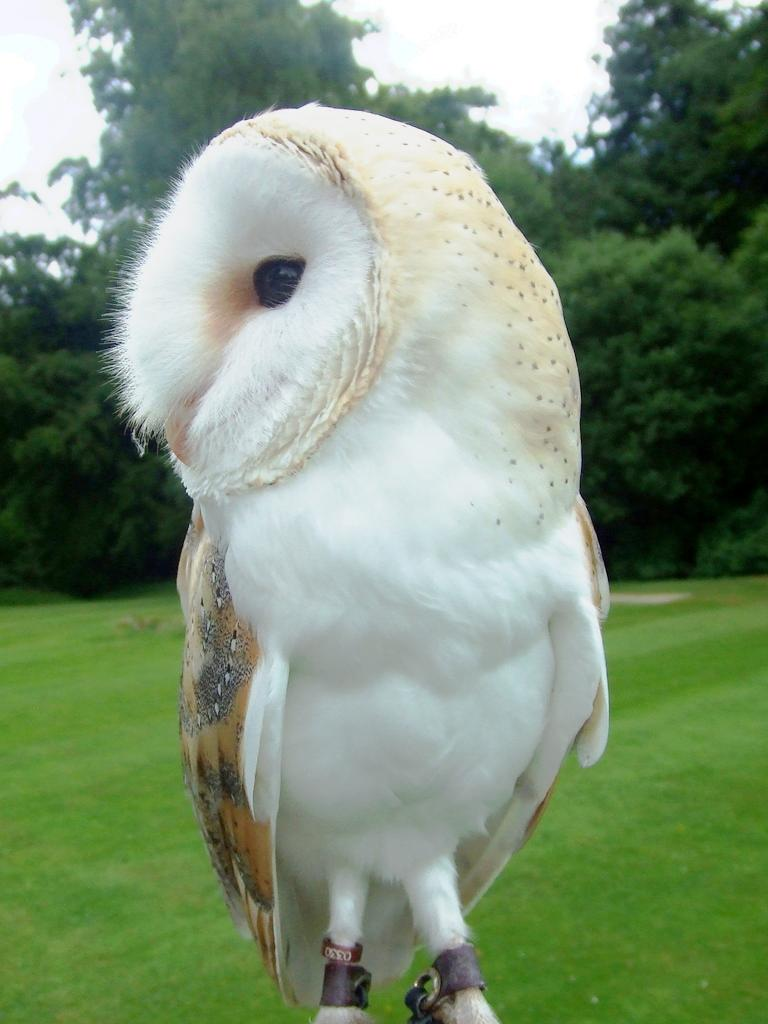Owl: (98, 101, 610, 962)
